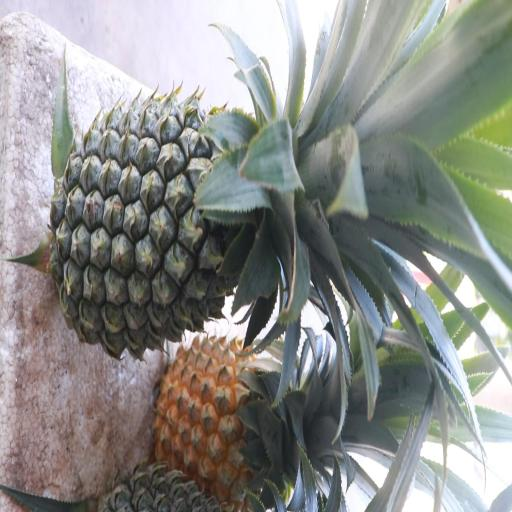Pineapple - v8 v1: (165, 334, 316, 496)
